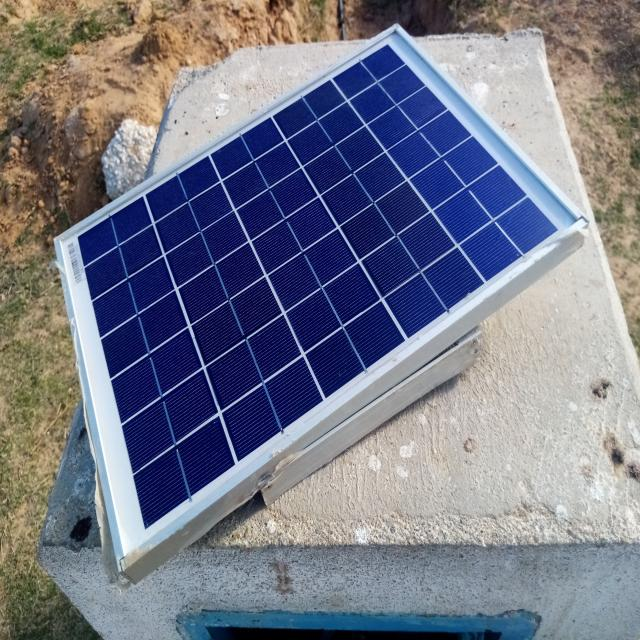no faulty: (52, 25, 580, 560)
